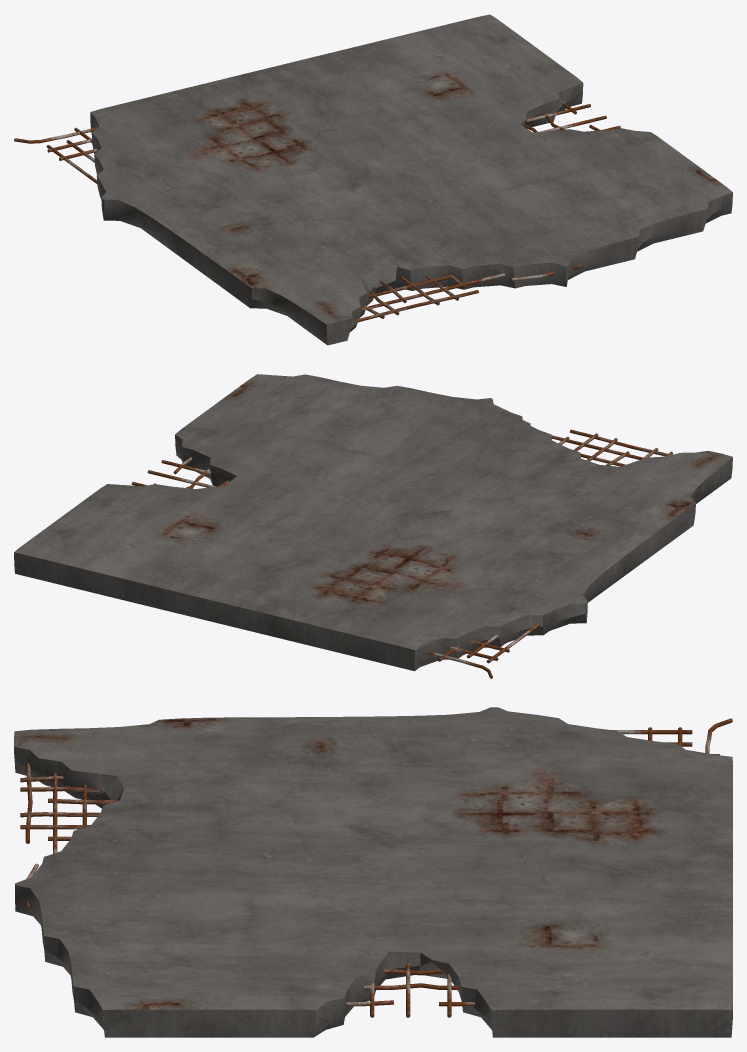
The model's file is debris_slab.glb.
3 views of the same model, one above another, from view 1: azimuth 30°, elevation 25°; view 2: azimuth 150°, elevation 25°; view 3: azimuth 270°, elevation 25° (orthographic). The views are drawn at different scales.
Parts seen in each view (by area): view 1: Plane_2, Cylinder_3; view 2: Plane_2, Cylinder_3; view 3: Plane_2, Cylinder_3.
Boxes of the visible parts, left/top/right/bottom form: Plane_2: left=90, top=14, right=732, bottom=345; Cylinder_3: left=14, top=101, right=620, bottom=322; Plane_2: left=14, top=374, right=732, bottom=671; Cylinder_3: left=131, top=420, right=672, bottom=678; Plane_2: left=14, top=707, right=732, bottom=1037; Cylinder_3: left=20, top=718, right=732, bottom=1017.
Size of the model in its own units: 3 by 0.1424 by 3.
Materials: 2 (2 with a texture image).
